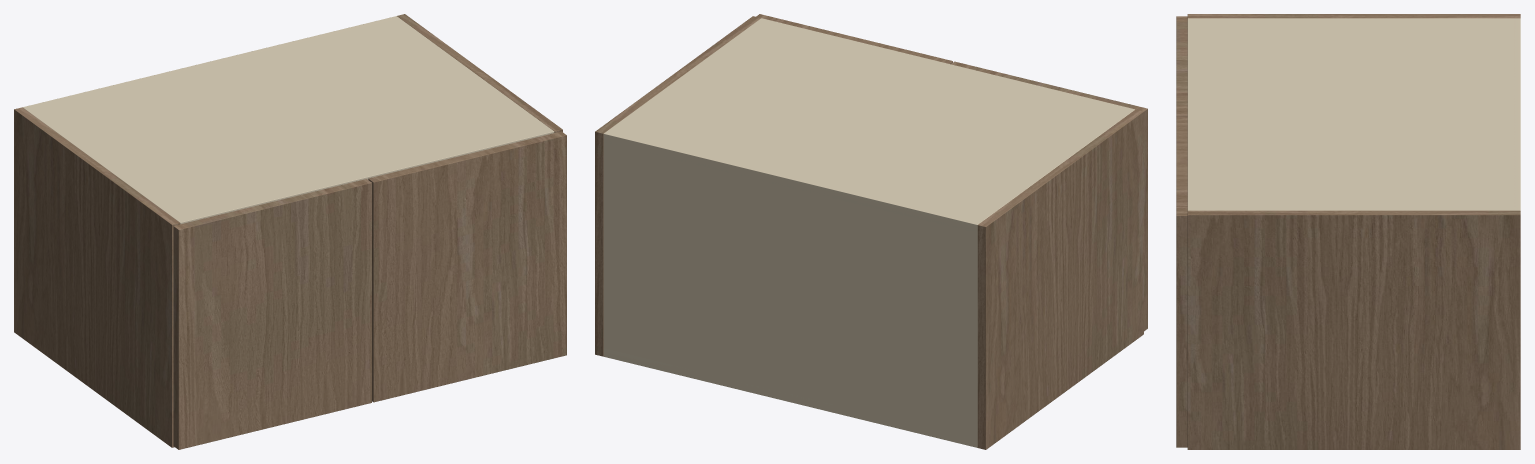
The model's file is oppein-ply-mnw-w331824.glb.
The picture shows the model from 3 angles, left to right: view 1: azimuth 30°, elevation 25°; view 2: azimuth 150°, elevation 25°; view 3: azimuth 270°, elevation 25°; orthographic projection. The views are drawn at different scales.
Visible parts, largest first — view 1: Cabinet top, Door, Door.001, Cabinet side, Cabinet side.001, Cabinet back; view 2: Cabinet back, Cabinet top, Cabinet side, Cabinet side.001, Door, Door.001, Cabinet bottom; view 3: Cabinet side.001, Cabinet top, Door.001, Cabinet side, Cabinet back, Door.
Boxes of the visible parts, <box> form: Cabinet top: <box>23,16,554,224</box>; Door: <box>173,179,371,449</box>; Door.001: <box>368,131,566,402</box>; Cabinet side: <box>14,107,180,447</box>; Cabinet side.001: <box>397,14,562,132</box>; Cabinet back: <box>23,16,399,109</box>; Cabinet back: <box>603,131,980,447</box>; Cabinet top: <box>604,18,1134,232</box>; Cabinet side: <box>977,109,1143,449</box>; Cabinet side.001: <box>595,16,760,356</box>; Door: <box>951,61,1147,331</box>; Door.001: <box>756,14,952,64</box>; Cabinet bottom: <box>603,348,977,444</box>; Cabinet side.001: <box>1187,210,1520,449</box>; Cabinet top: <box>1187,18,1520,210</box>; Door.001: <box>1176,116,1187,447</box>; Cabinet side: <box>1187,14,1520,18</box>; Cabinet back: <box>1514,18,1520,210</box>; Door: <box>1176,16,1187,116</box>.
Bounding box in the file's own units: 0.8382 × 0.4572 × 0.6064.
Materials: 2 (1 with a texture image).
